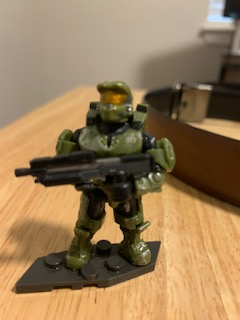chief: (53, 80, 177, 271)
rifle: (13, 150, 154, 193)
spartan: (51, 78, 175, 269)
